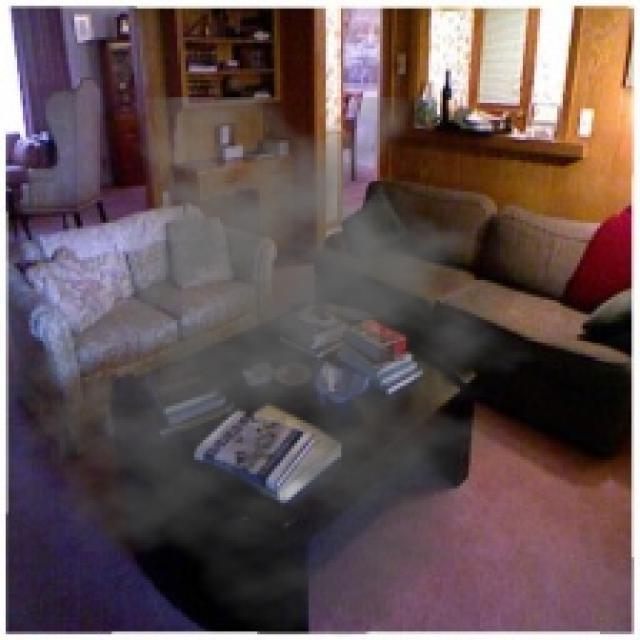Smoke: (8, 97, 563, 637)
